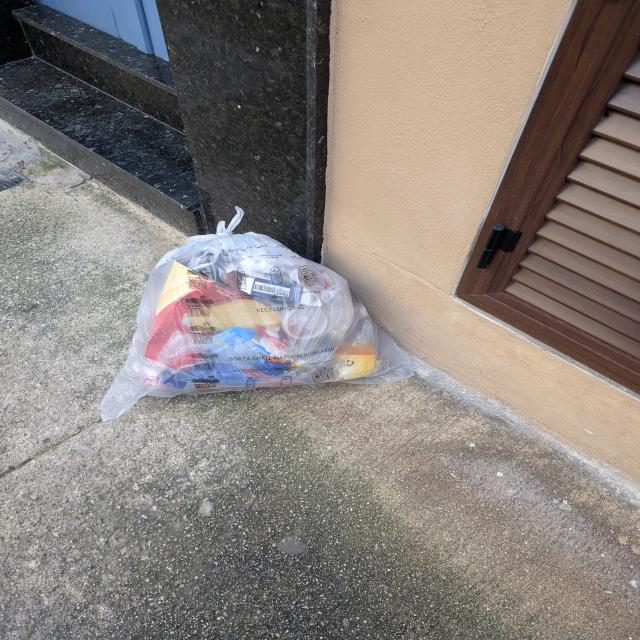Recyclable Material: (100, 206, 414, 422)
